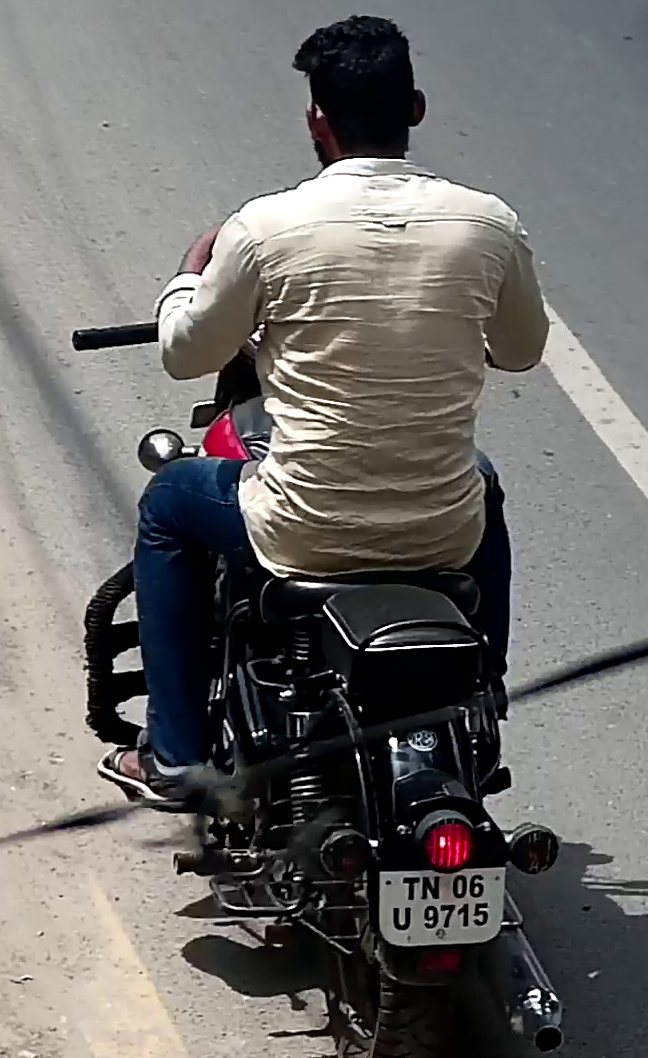0: (452, 874, 468, 899)
1: (457, 902, 470, 928)
5: (473, 901, 490, 927)
6: (468, 873, 484, 898)
7: (440, 904, 456, 929)
9: (423, 905, 439, 929)
N: (421, 875, 440, 900)
P16: (375, 863, 508, 952)
T: (402, 876, 421, 901)
U: (391, 906, 412, 931)
